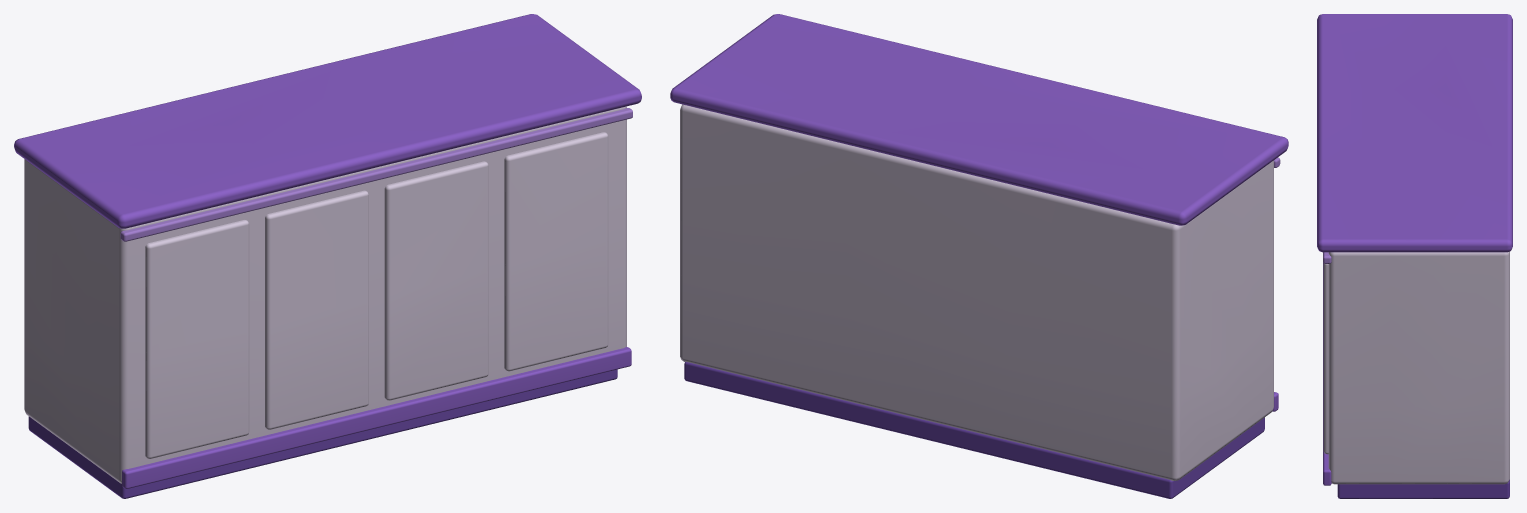
File: furn_salon_desk.glb
3 views of the same model, side by side, from view 1: azimuth 30°, elevation 25°; view 2: azimuth 150°, elevation 25°; view 3: azimuth 270°, elevation 25° (orthographic). The views are drawn at different scales.
Parts seen in each view (by area): view 1: furn_salon_desk_main; view 2: furn_salon_desk_main; view 3: furn_salon_desk_main.
Part boxes in pixels (bbox=[...]): furn_salon_desk_main: bbox=[14, 14, 641, 498]; furn_salon_desk_main: bbox=[670, 14, 1288, 498]; furn_salon_desk_main: bbox=[1317, 14, 1512, 498].
Size of the model in its own units: 1.86 by 1 by 0.67.
